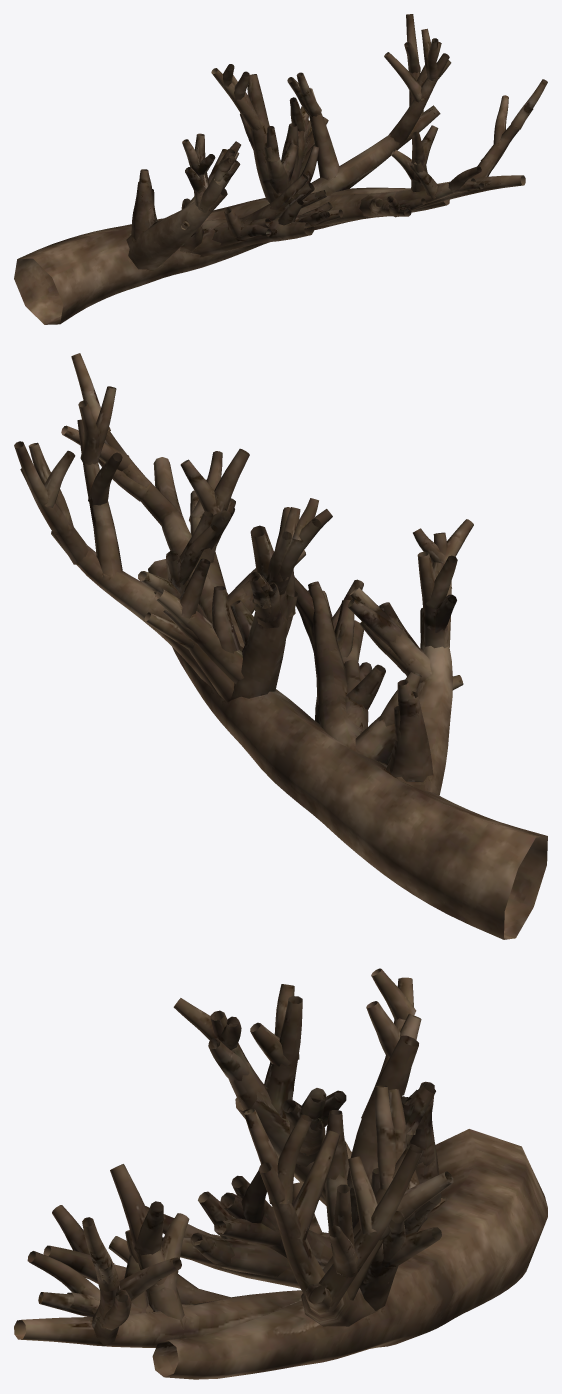
The model's file is wood_b.glb.
3 renders of one model, top to bottom at view 1: azimuth 30°, elevation 25°; view 2: azimuth 150°, elevation 25°; view 3: azimuth 270°, elevation 25°, orthographic. The views are drawn at different scales.
Visible parts, largest first — view 1: wood_b; view 2: wood_b; view 3: wood_b.
Part boxes in pixels (x1,y1,x2,y2): wood_b: (14,14,547,324); wood_b: (14,353,547,939); wood_b: (14,968,547,1379).
Size of the model in its own units: 22.15 by 12.64 by 13.06.
1 material, 1 textured.
